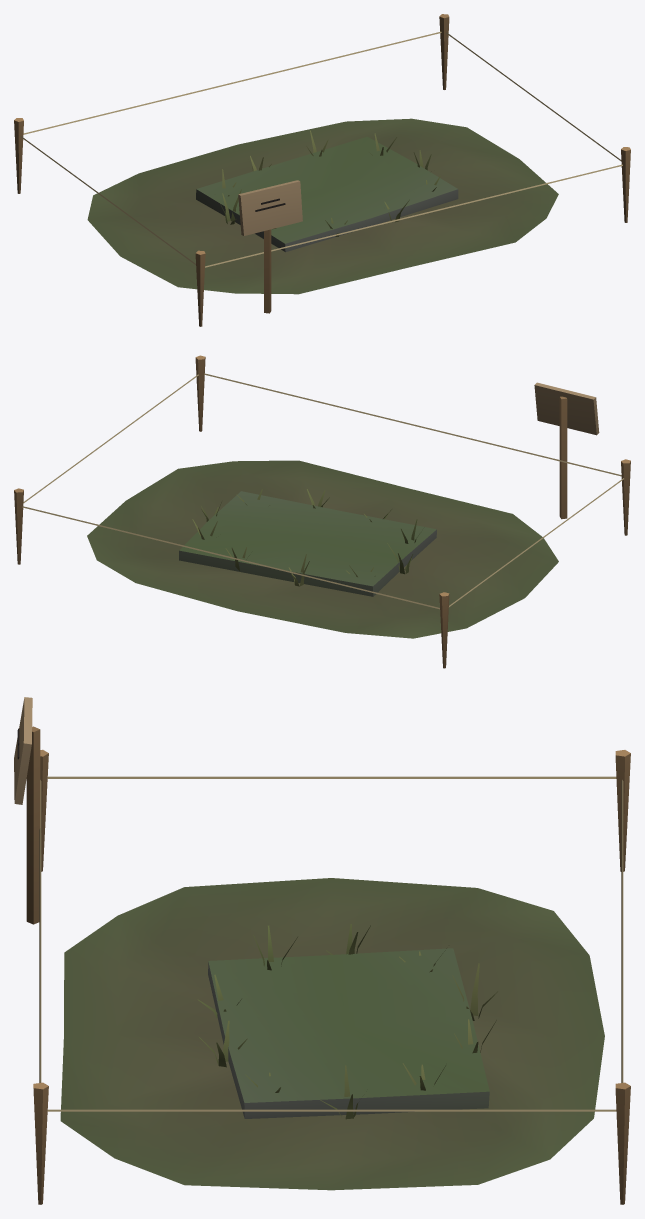
Rendered from ph_prop_build_site.glb.
The picture shows the model from 3 angles, top to bottom: view 1: azimuth 30°, elevation 25°; view 2: azimuth 150°, elevation 25°; view 3: azimuth 270°, elevation 25°; orthographic projection. The views are drawn at different scales.
Visible parts, largest first — view 1: ph_prop_build_site, stakes; view 2: ph_prop_build_site, stakes; view 3: ph_prop_build_site, stakes.
Part boxes in pixels (x1,y1,x2,y2): ph_prop_build_site: [87, 118, 558, 294]; stakes: [14, 14, 630, 326]; ph_prop_build_site: [87, 460, 558, 638]; stakes: [14, 355, 630, 668]; ph_prop_build_site: [60, 878, 604, 1190]; stakes: [14, 697, 630, 1204].
Size of the model in its own units: 2.35 by 0.6741 by 1.8.
